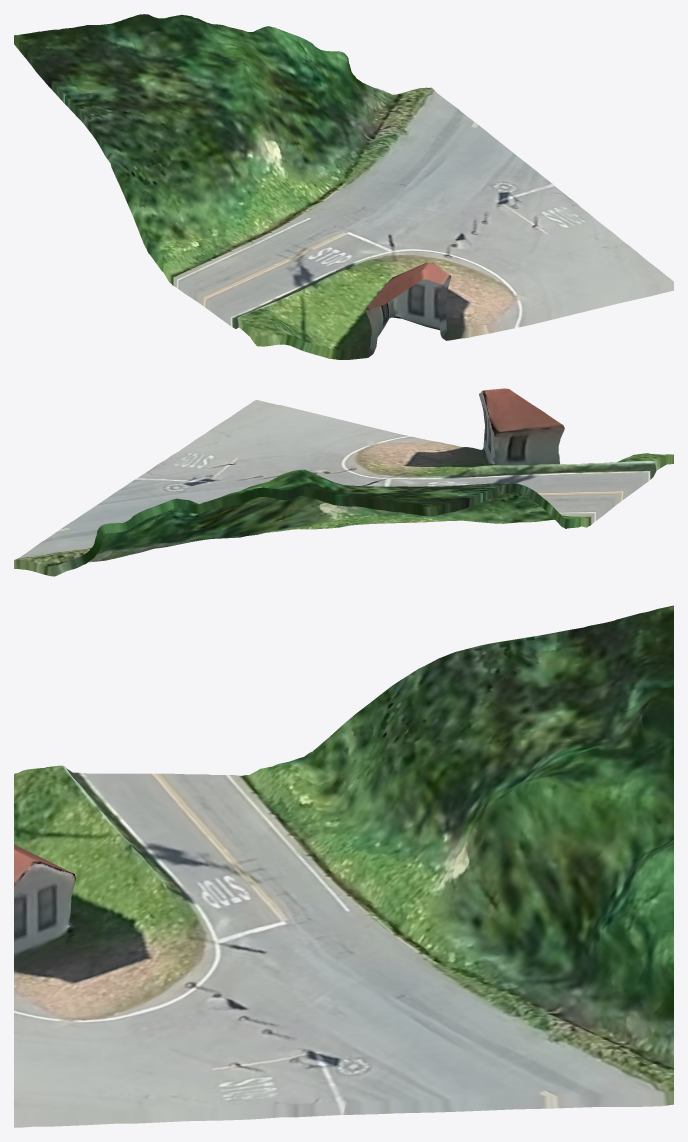
Rendered from z20-167564-405173-h0-yup-uvflip-v3-world.glb.
3 renders of one model, top to bottom at view 1: azimuth 30°, elevation 25°; view 2: azimuth 150°, elevation 25°; view 3: azimuth 270°, elevation 25°, orthographic. The views are drawn at different scales.
Size of the model in its own units: 30.16 by 12.4 by 30.32.
1 material, 1 textured.
